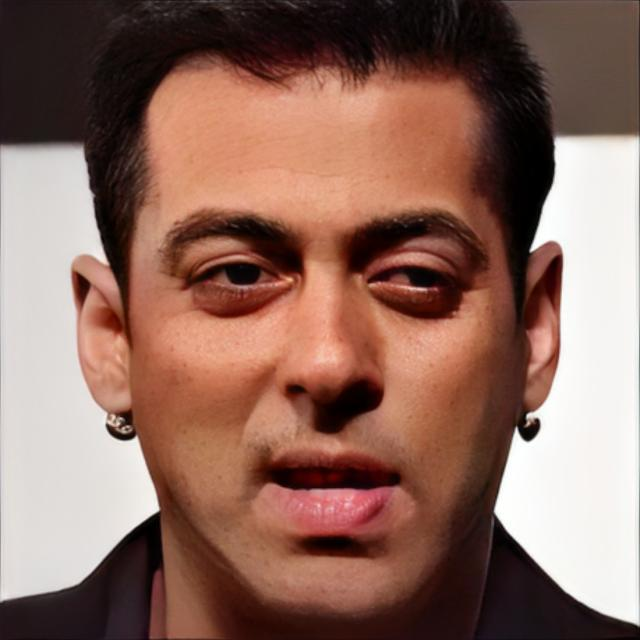disgust: (125, 35, 521, 630)
